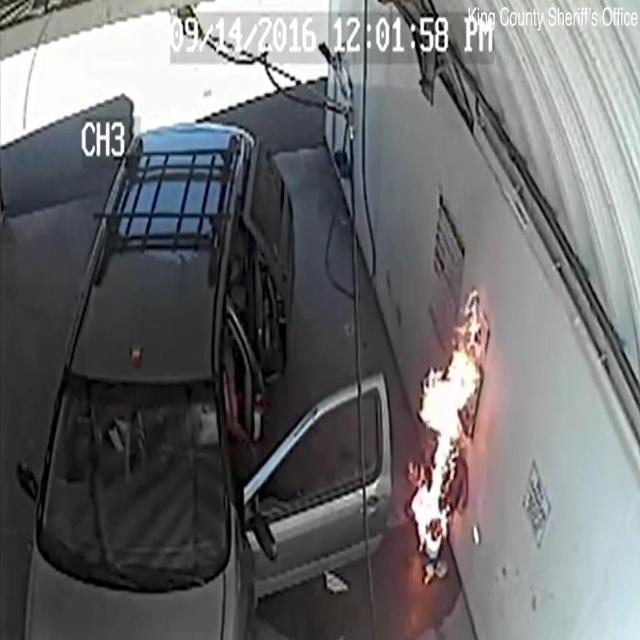fire: (410, 284, 479, 558)
